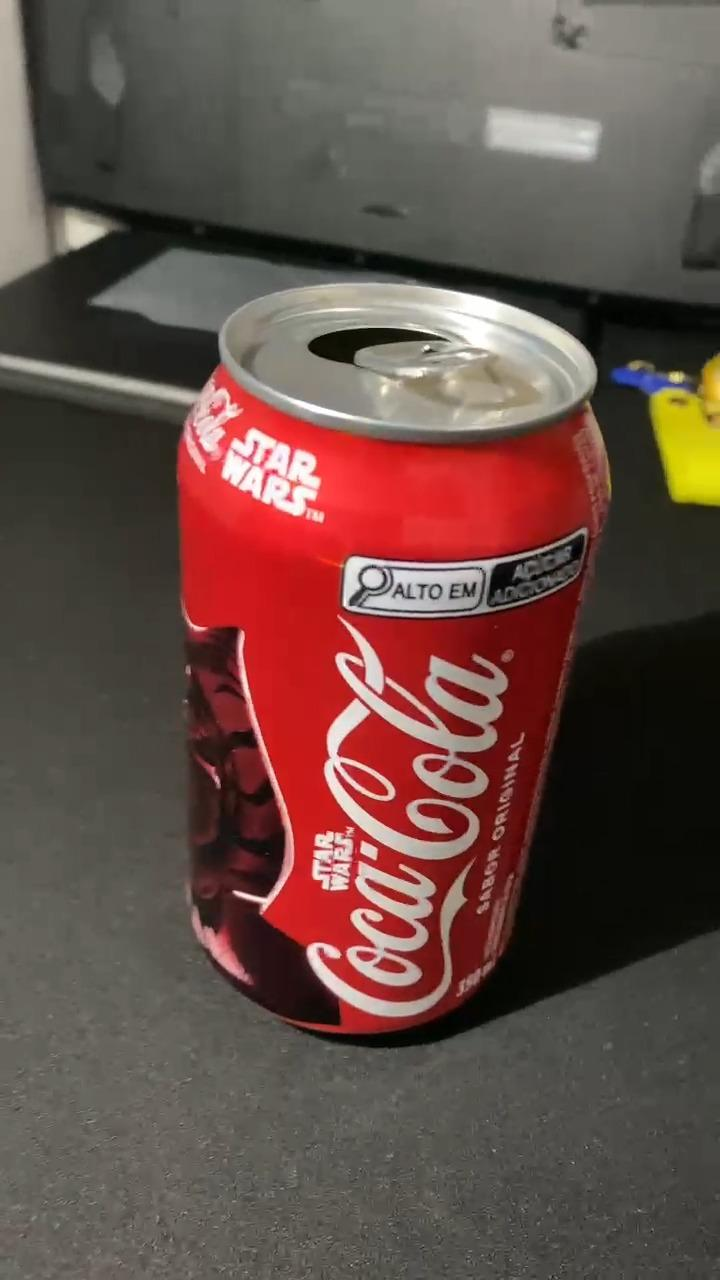coke: (176, 285, 609, 1032)
